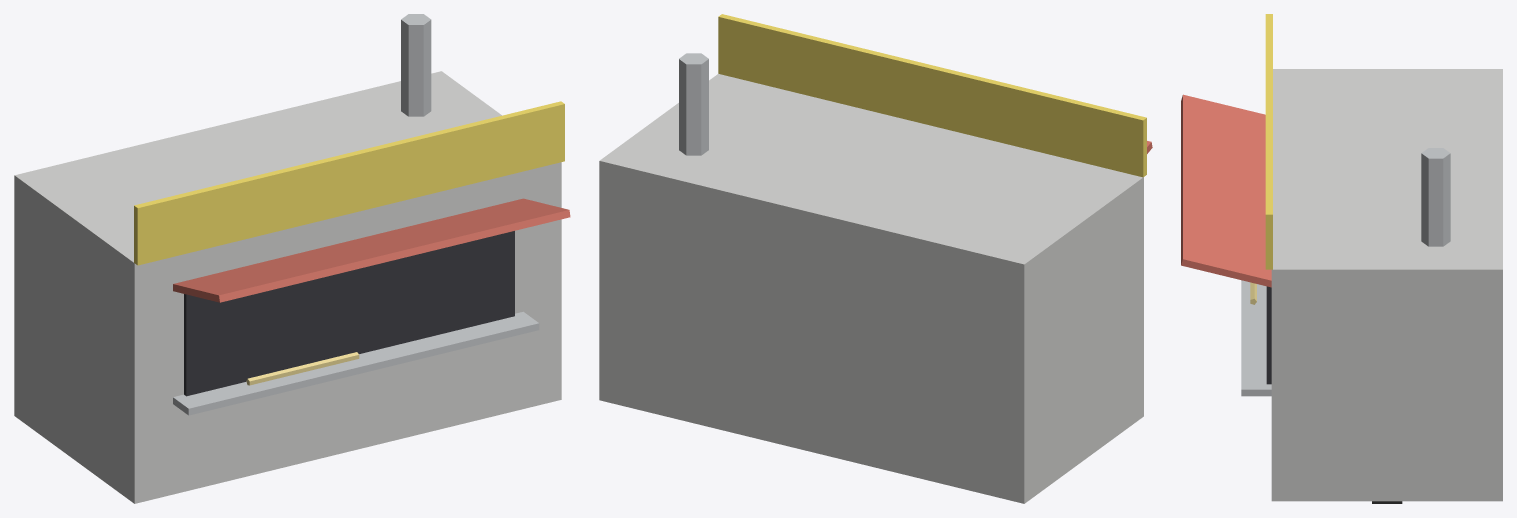
Rendered from VJ_Churreria.fbx.
The picture shows the model from 3 angles, left to right: view 1: azimuth 30°, elevation 25°; view 2: azimuth 150°, elevation 25°; view 3: azimuth 270°, elevation 25°; orthographic projection. The views are drawn at different scales.
Parts seen in each view (by area): view 1: VJ_Churreria; view 2: VJ_Churreria; view 3: VJ_Churreria.
Boxes of the visible parts, x1,y1,x2,y2 form: VJ_Churreria: (14,14,570,503); VJ_Churreria: (599,14,1152,503); VJ_Churreria: (1181,14,1502,503).
Bounding box in the file's own units: 3.9 × 3.2 × 2.64.
